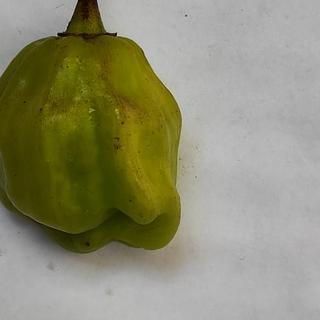Fly-bites: (109, 130, 128, 145), (107, 141, 126, 154), (114, 116, 131, 129), (17, 96, 34, 108), (34, 103, 47, 118), (82, 239, 95, 250)
